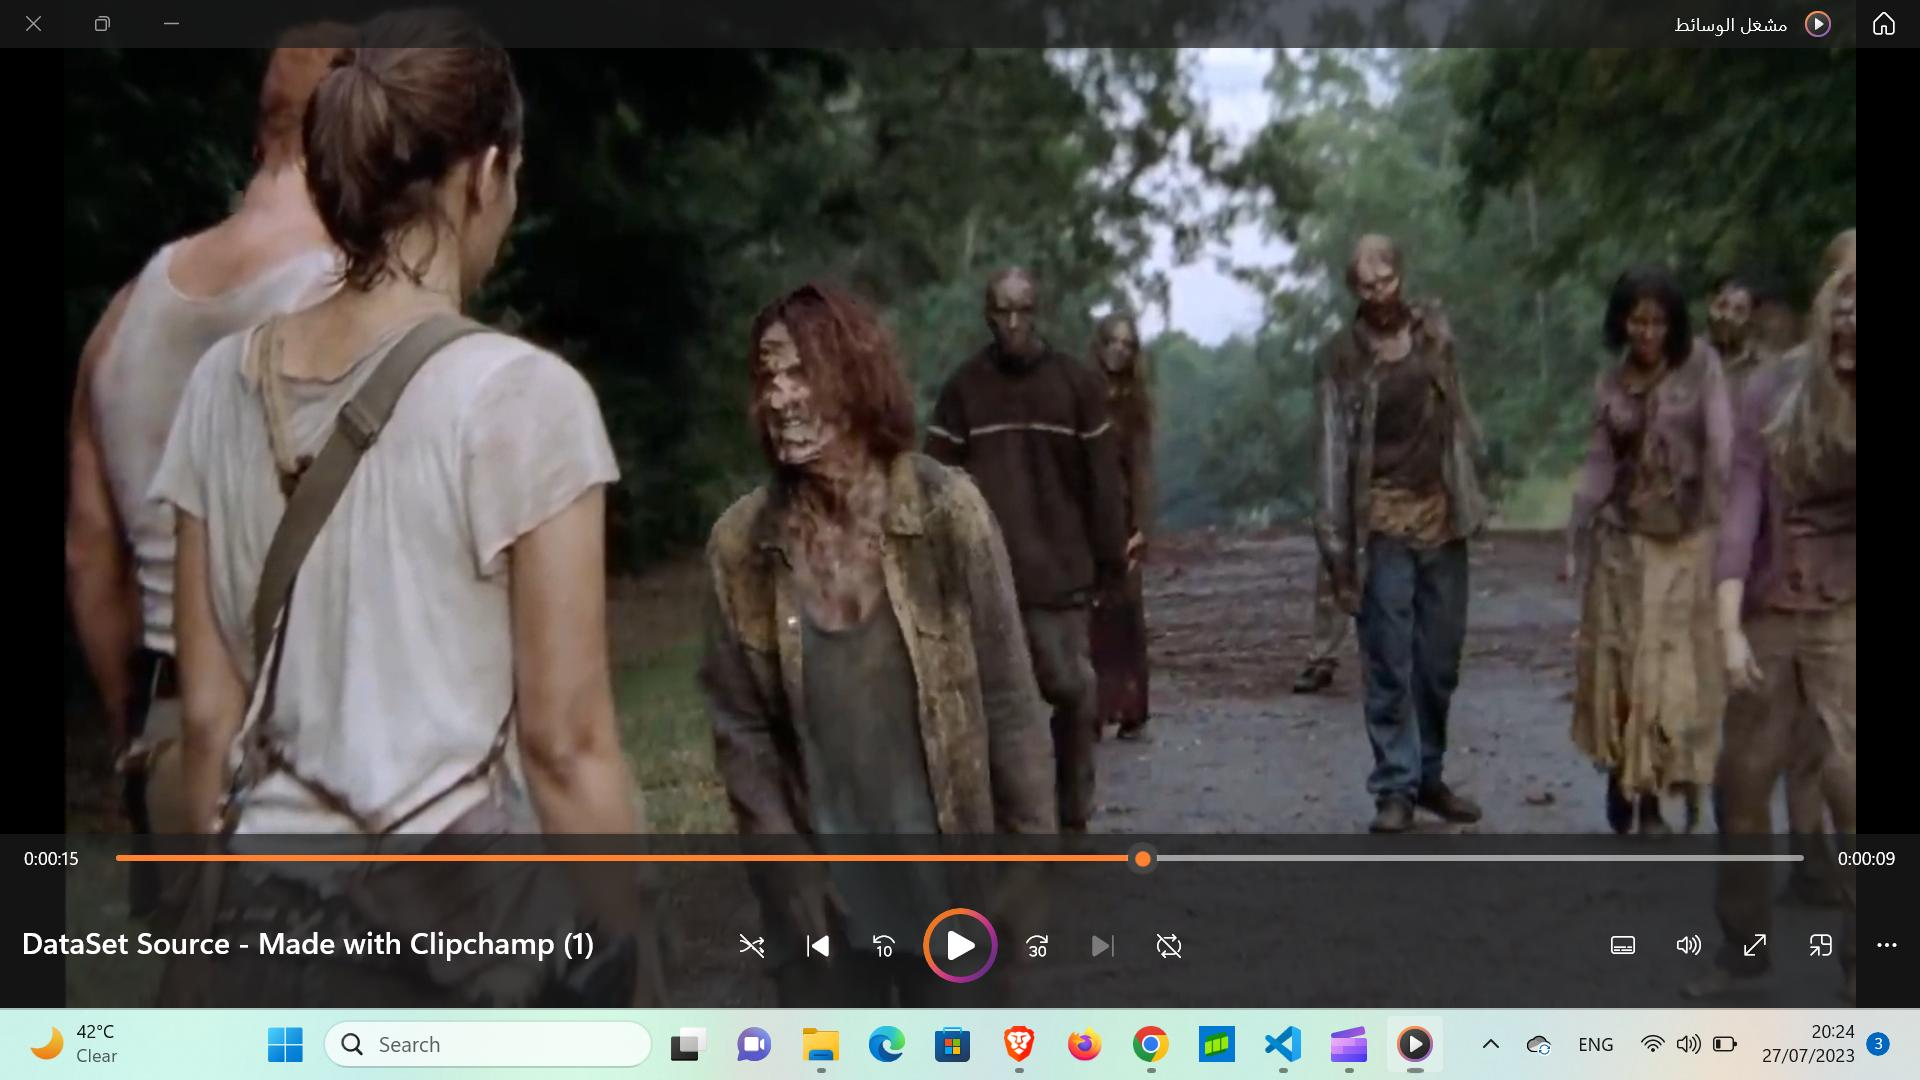Zombie: (725, 278, 906, 497), (1598, 274, 1695, 367), (1332, 231, 1404, 318), (1804, 244, 1853, 368), (985, 264, 1038, 353), (1713, 268, 1755, 356), (1092, 313, 1139, 376)
